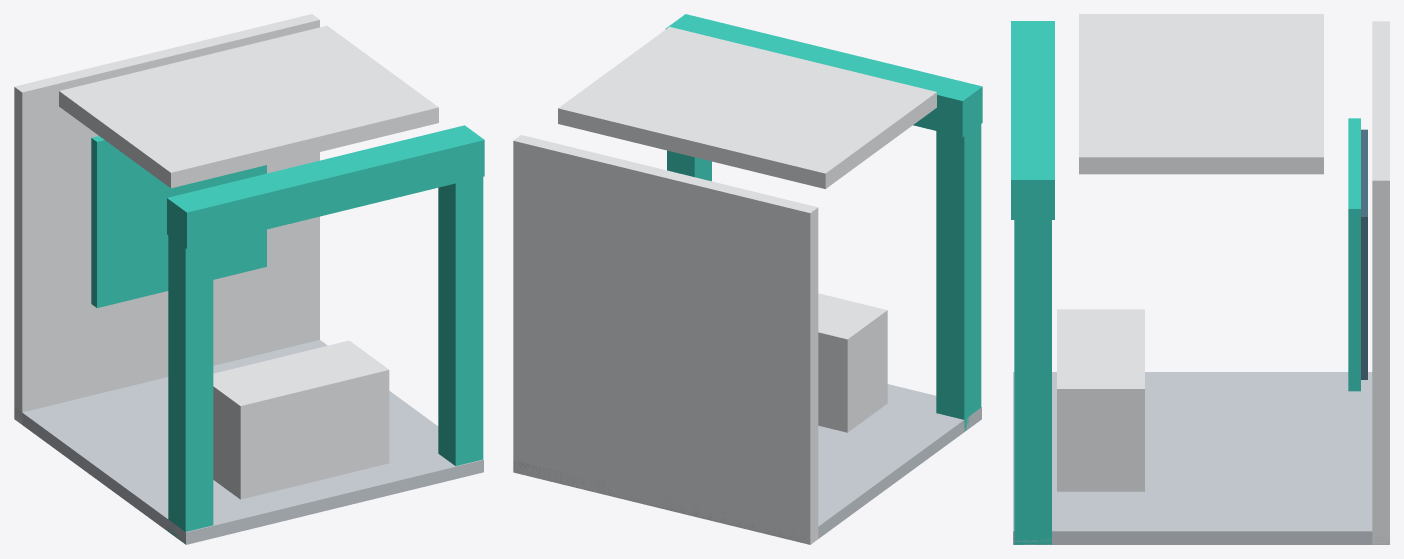
3 renders of one model, left to right at view 1: azimuth 30°, elevation 25°; view 2: azimuth 150°, elevation 25°; view 3: azimuth 270°, elevation 25°, orthographic. The views are drawn at different scales.
Parts seen in each view (by area): view 1: Exhibition Booth Concept; view 2: Exhibition Booth Concept; view 3: Exhibition Booth Concept.
Boxes of the visible parts, left/top/right/bottom form: Exhibition Booth Concept: left=14, top=14, right=484, bottom=544; Exhibition Booth Concept: left=513, top=14, right=982, bottom=544; Exhibition Booth Concept: left=1011, top=14, right=1389, bottom=544.
Size of the model in its own units: 3 by 3.34 by 3.01.
